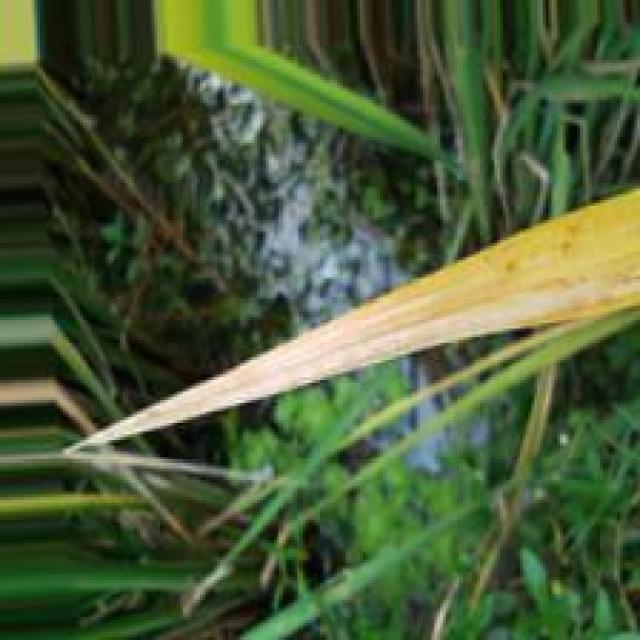Bacterial_Leaf_Blight: (181, 191, 639, 417)
